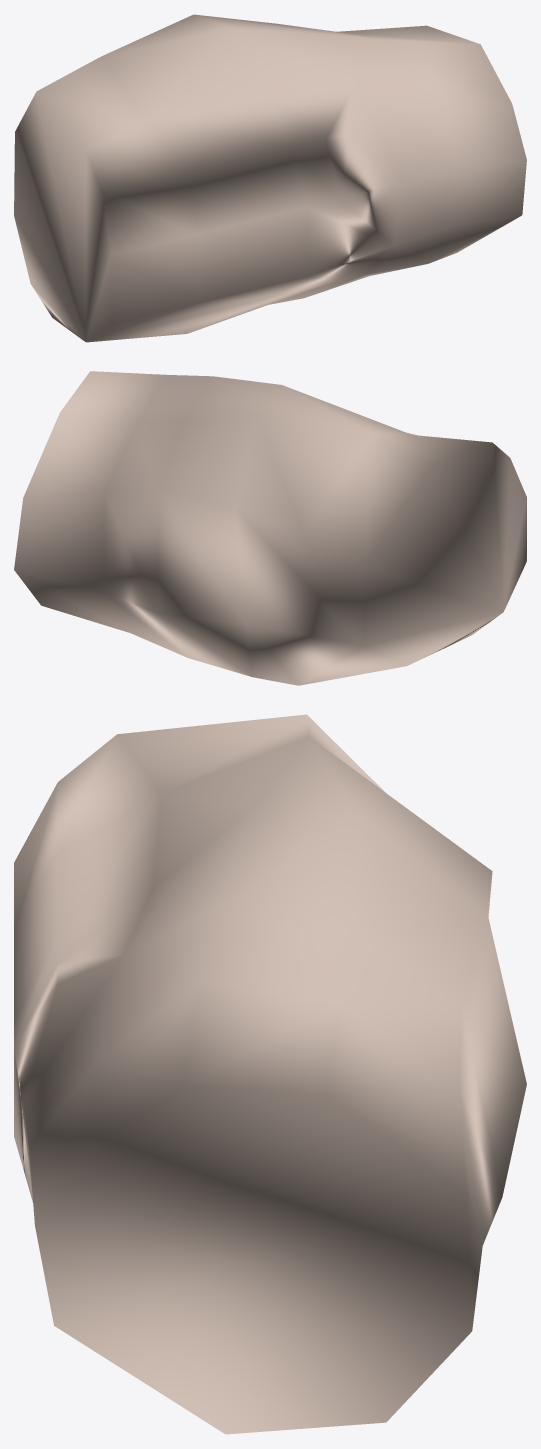
File: LThumb1stPhalange.dae
The picture shows the model from 3 angles, top to bottom: view 1: azimuth 30°, elevation 25°; view 2: azimuth 150°, elevation 25°; view 3: azimuth 270°, elevation 25°; orthographic projection. The views are drawn at different scales.
Visible parts, largest first — view 1: ShapeIndexedFaceSet; view 2: ShapeIndexedFaceSet; view 3: ShapeIndexedFaceSet.
Boxes of the visible parts, left/top/right/bottom form: ShapeIndexedFaceSet: left=14, top=14, right=526, bottom=342; ShapeIndexedFaceSet: left=14, top=371, right=526, bottom=685; ShapeIndexedFaceSet: left=14, top=714, right=526, bottom=1434.
Bounding box in the file's own units: 0.0346 × 0.0218 × 0.022.
